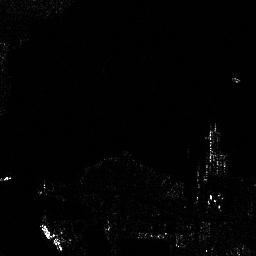ship: (38, 224, 51, 239)
